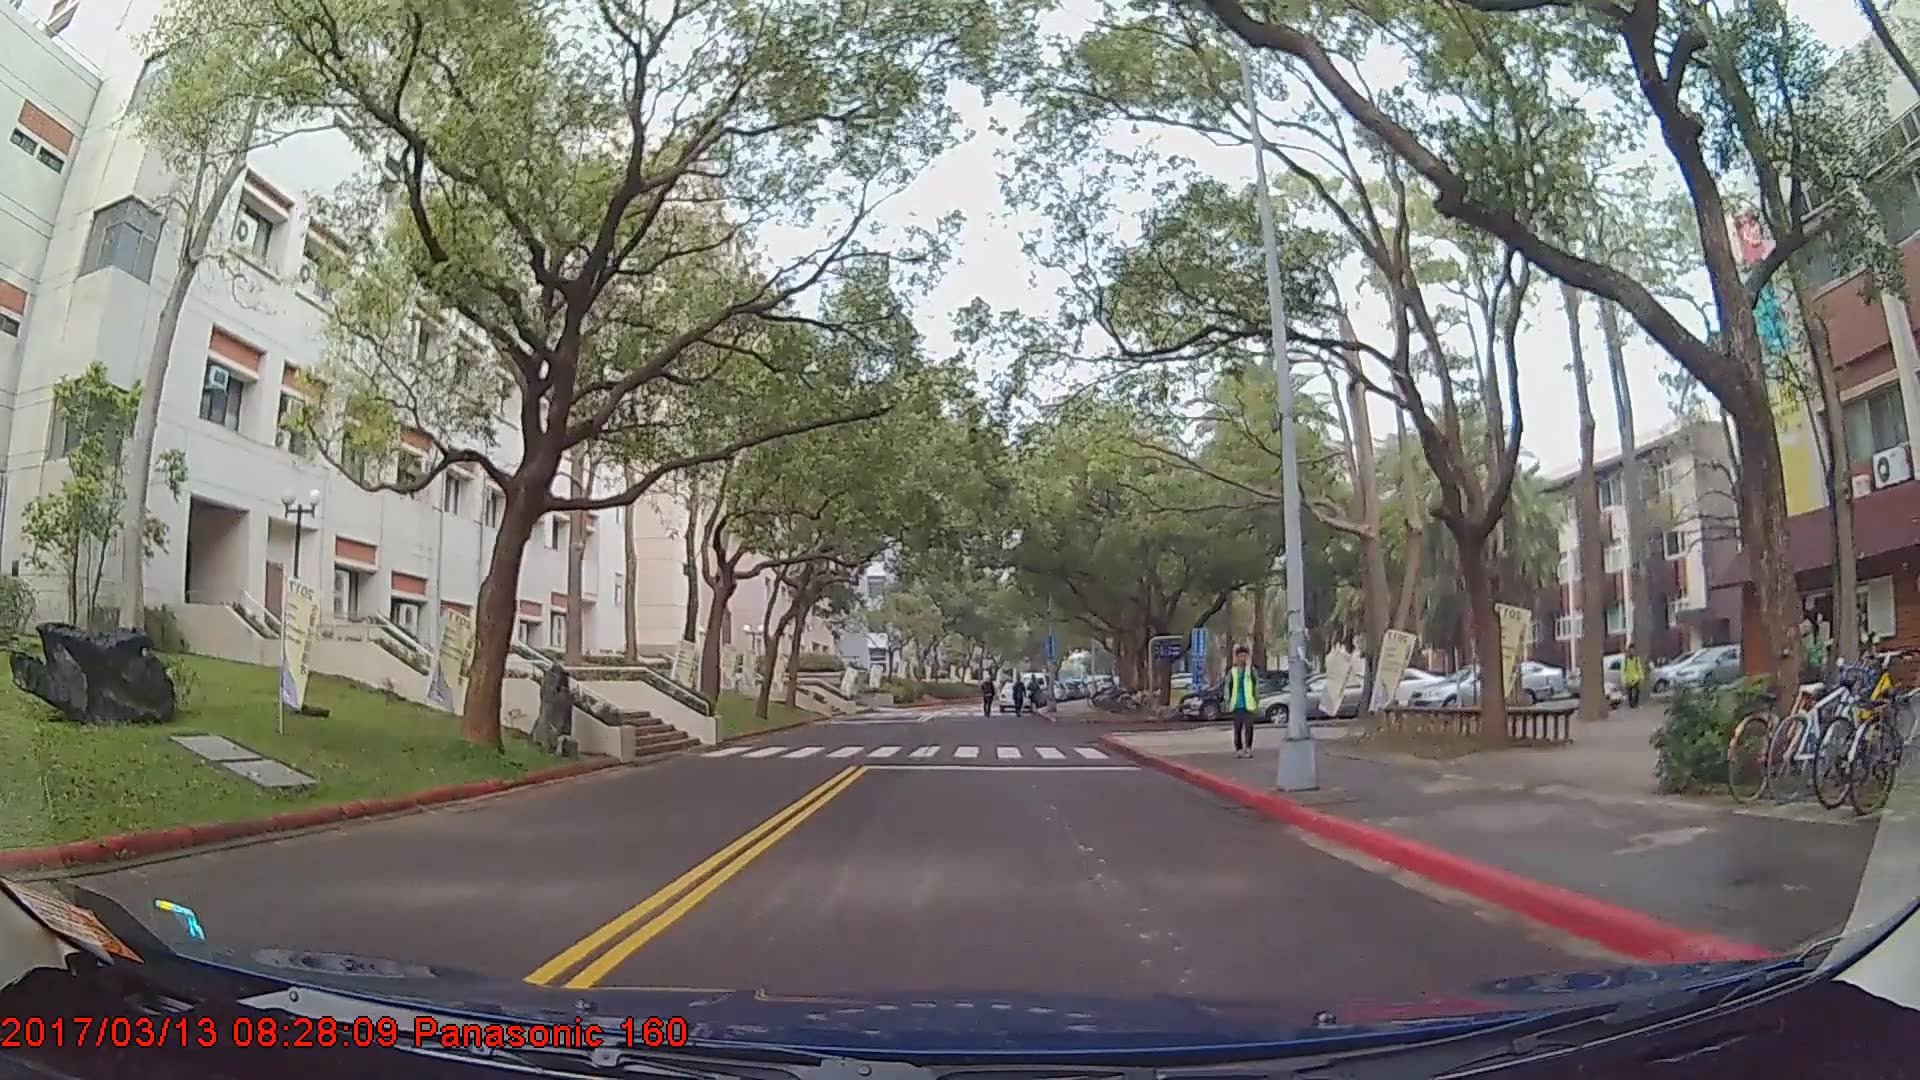pedestrian: (1225, 645, 1264, 752), (1621, 642, 1644, 707), (1012, 674, 1032, 719)
vehicle: (1408, 656, 1551, 714), (1249, 668, 1393, 722), (1675, 643, 1764, 688)
